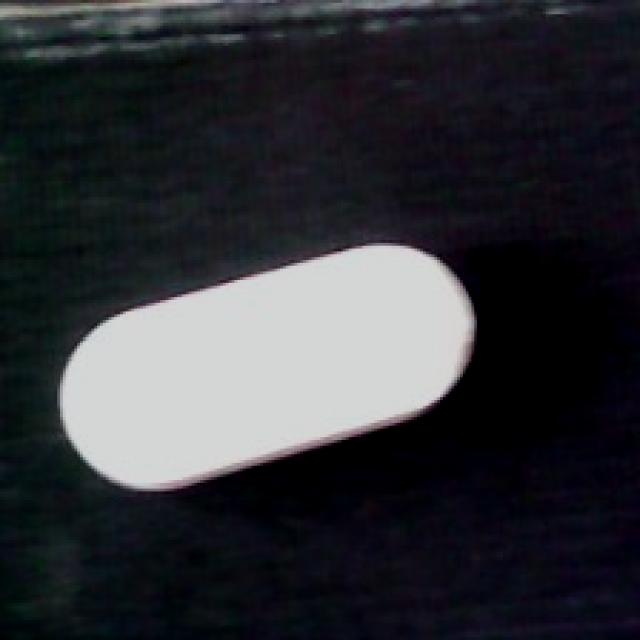no-defect: (57, 239, 483, 492)
